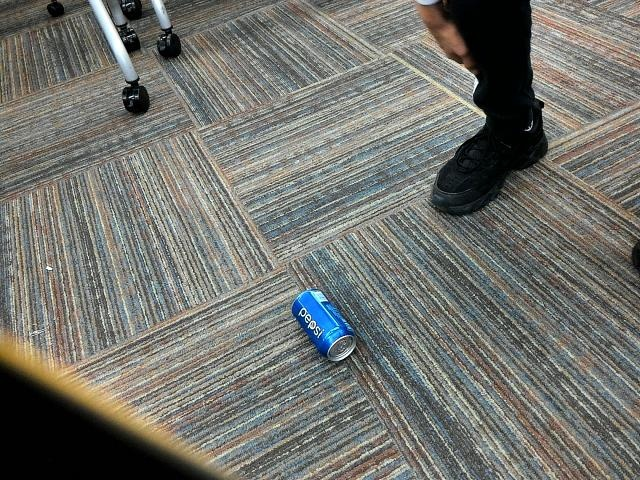can: (282, 276, 366, 372)
